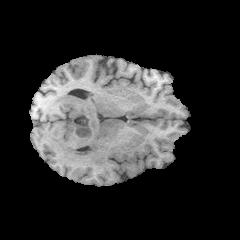glioma: (52, 92, 108, 164)
